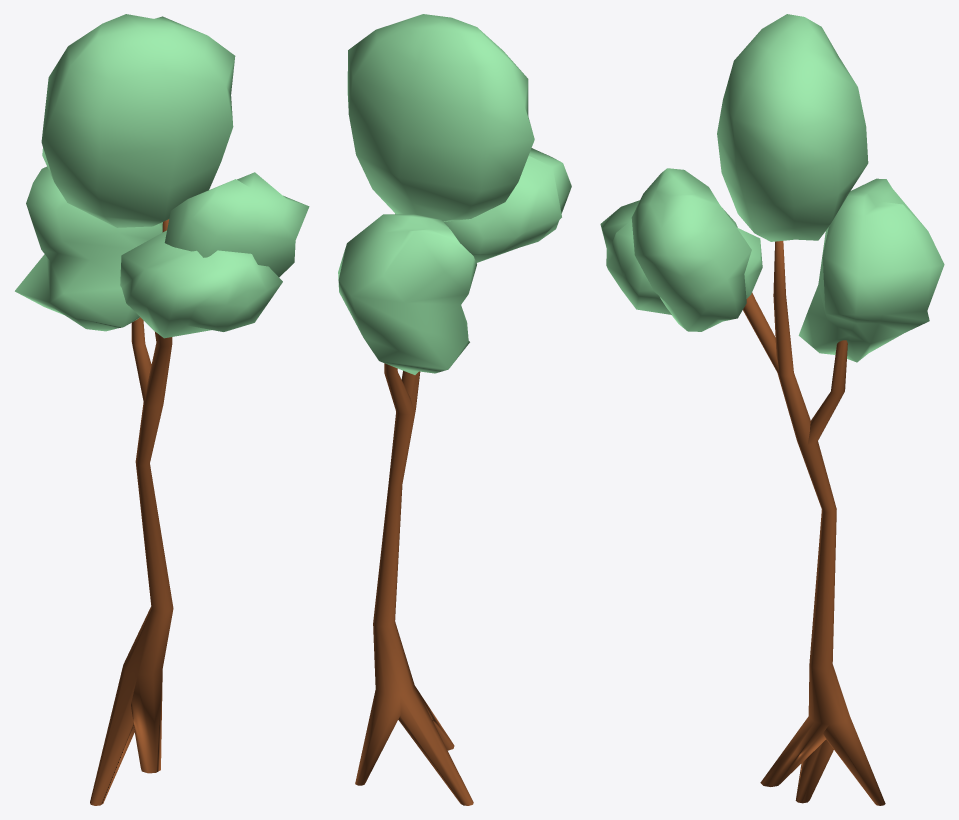
File: pohon.fbx
The picture shows the model from 3 angles, left to right: view 1: azimuth 30°, elevation 25°; view 2: azimuth 150°, elevation 25°; view 3: azimuth 270°, elevation 25°; orthographic projection. The views are drawn at different scales.
Parts seen in each view (by area): view 1: Sphere.004, Cylinder.001; view 2: Sphere.004, Cylinder.001; view 3: Sphere.004, Cylinder.001.
Part boxes in pixels (x1,y1,x2,y2): Sphere.004: [15, 14, 309, 338]; Cylinder.001: [90, 219, 173, 805]; Sphere.004: [338, 14, 571, 374]; Cylinder.001: [355, 363, 473, 805]; Sphere.004: [600, 14, 944, 362]; Cylinder.001: [743, 241, 885, 805].
Bounding box in the file's own units: 622 × 2222 × 881.
